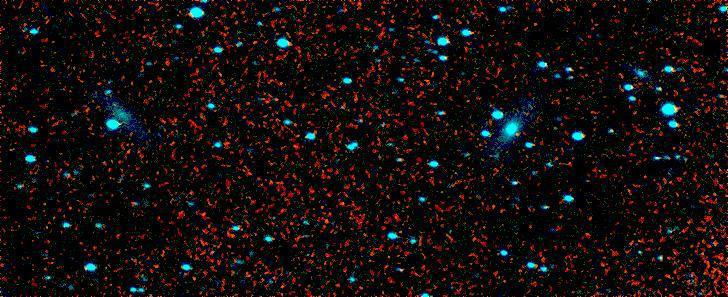star: (503, 119, 533, 149)
